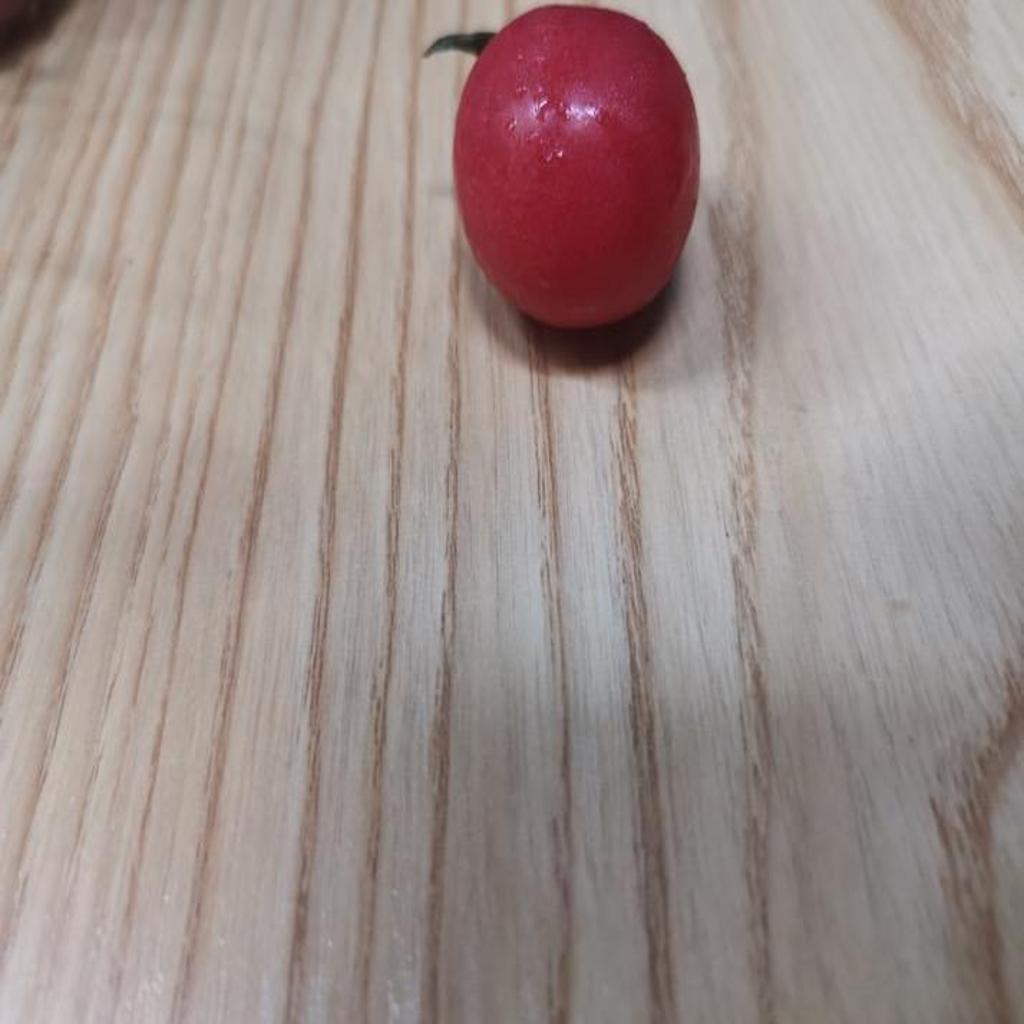tomato: (449, 17, 709, 329)
